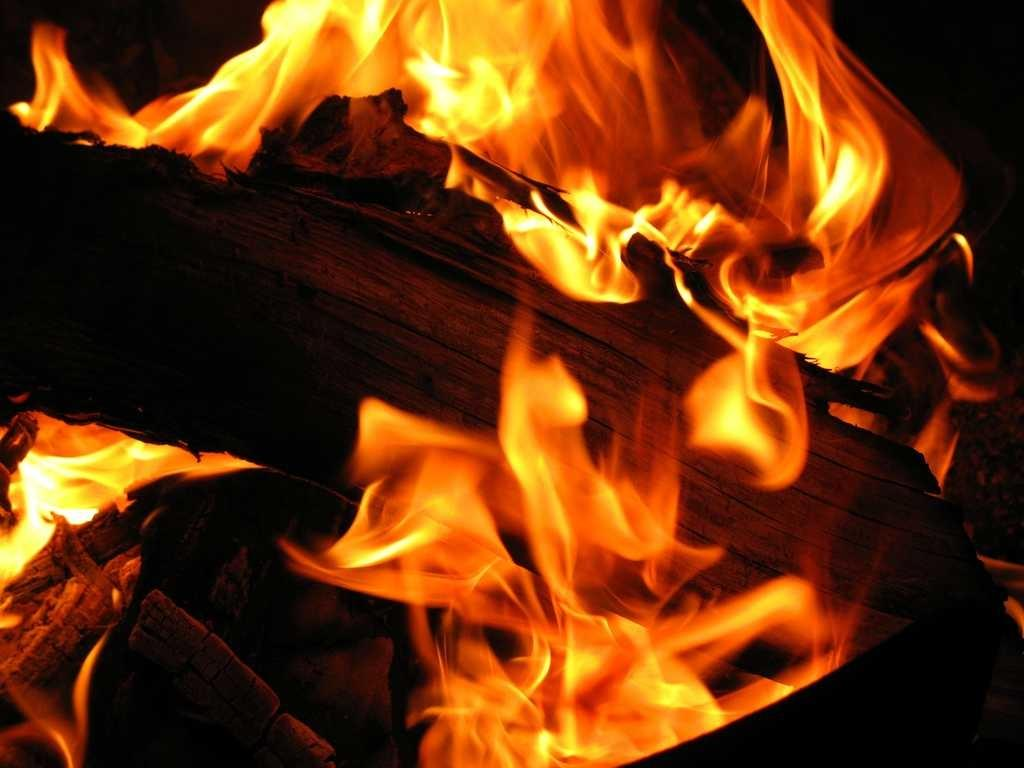fire: (422, 476, 682, 758), (276, 0, 620, 98), (678, 138, 896, 262), (508, 104, 646, 168), (24, 468, 138, 514), (172, 96, 256, 146)
